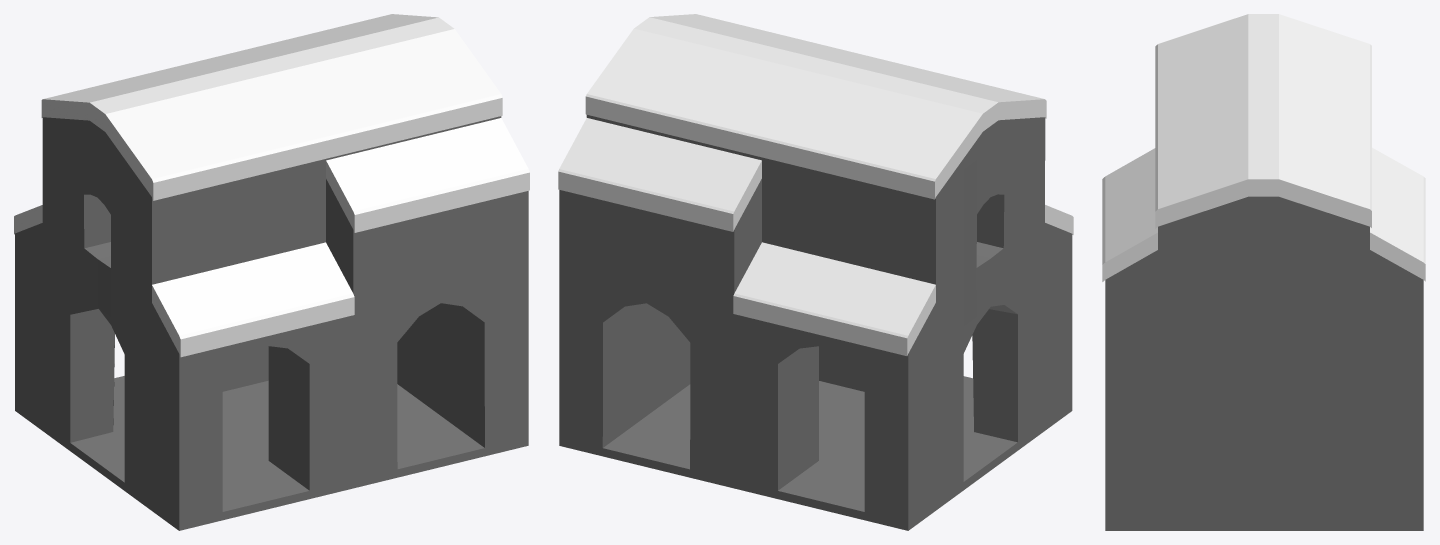
Rendered from Monastery Cap.fbx.
3 renders of one model, left to right at view 1: azimuth 30°, elevation 25°; view 2: azimuth 150°, elevation 25°; view 3: azimuth 270°, elevation 25°, orthographic. The views are drawn at different scales.
Parts seen in each view (by area): view 1: Monastery Cap; view 2: Monastery Cap; view 3: Monastery Cap.
Part boxes in pixels (x1,y1,x2,y2): Monastery Cap: [14, 14, 529, 530]; Monastery Cap: [558, 14, 1073, 530]; Monastery Cap: [1102, 14, 1425, 530].
Size of the model in its own units: 81.07 by 80.46 by 66.98.
